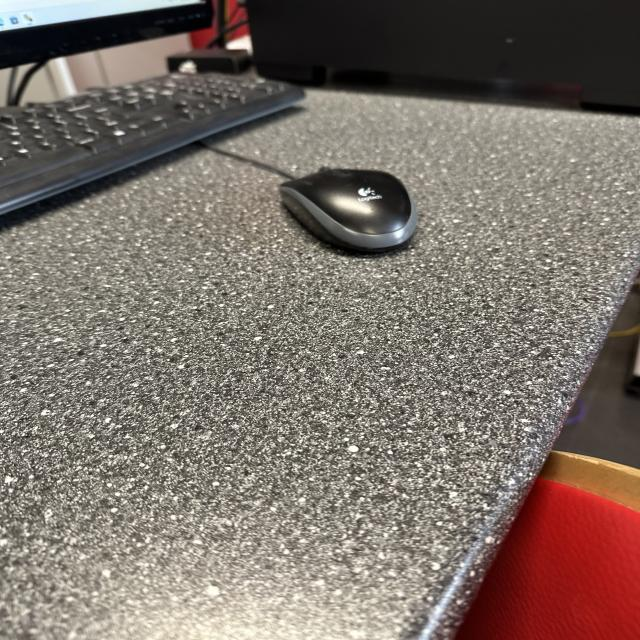mysz: (278, 156, 426, 258)
